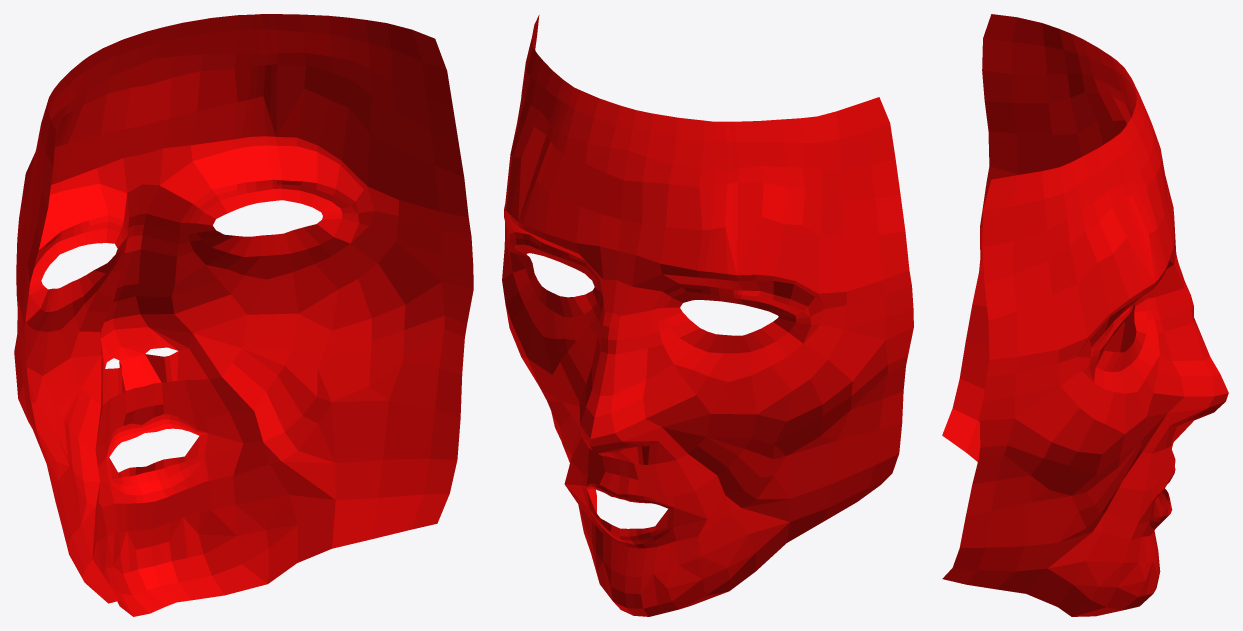
File: maskonly.glb
3 views of the same model, side by side, from view 1: azimuth 30°, elevation 25°; view 2: azimuth 150°, elevation 25°; view 3: azimuth 270°, elevation 25° (orthographic). The views are drawn at different scales.
Parts seen in each view (by area): view 1: BSurfaceMesh; view 2: BSurfaceMesh; view 3: BSurfaceMesh.
Part boxes in pixels (x1,y1,x2,y2): BSurfaceMesh: (14,14,473,616); BSurfaceMesh: (502,15,913,616); BSurfaceMesh: (942,14,1228,616).
Bounding box in the file's own units: 2.38 × 2.89 × 1.48.
